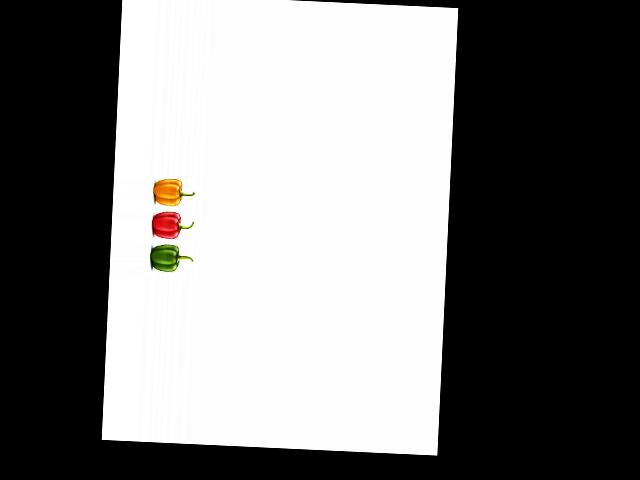bell_pepper: (147, 243, 193, 276)
